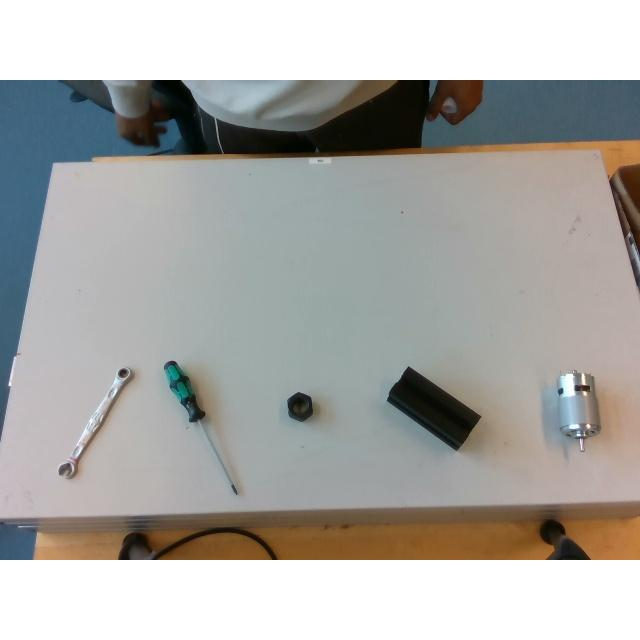M20: (288, 392, 312, 421)
Motor2: (556, 370, 600, 450)
S40_40_B: (388, 366, 480, 450)
Screwdriver: (162, 360, 238, 494)
Wrench: (56, 367, 132, 478)
